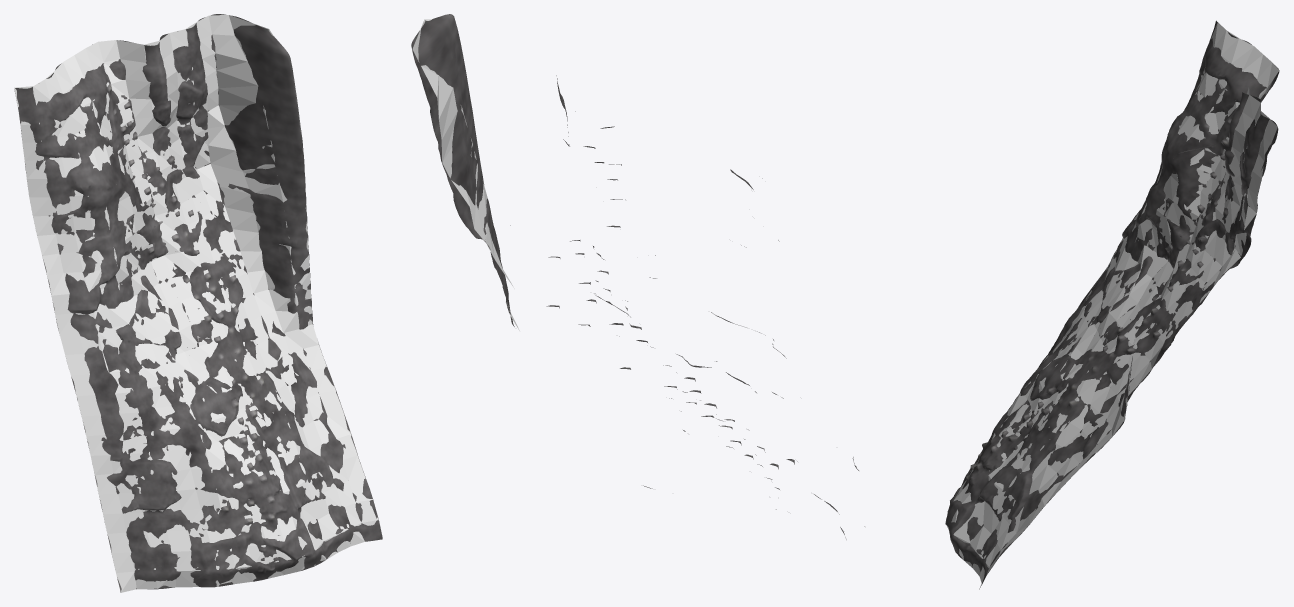
Rendered from dufour_wall.glb.
3 views of the same model, side by side, from view 1: azimuth 30°, elevation 25°; view 2: azimuth 150°, elevation 25°; view 3: azimuth 270°, elevation 25° (orthographic). The views are drawn at different scales.
Visible parts, largest first — view 1: wall, col_wall; view 2: wall, col_wall; view 3: wall, col_wall.
Part boxes in pixels (x1,y1,x2,y2): wall: [14, 14, 382, 592]; col_wall: [14, 15, 378, 592]; wall: [411, 14, 864, 539]; col_wall: [412, 19, 519, 330]; wall: [945, 20, 1279, 589]; col_wall: [948, 22, 1279, 583].
Bounding box in the file's own units: 8.01 × 13 × 8.75.
1 material, 1 textured.
